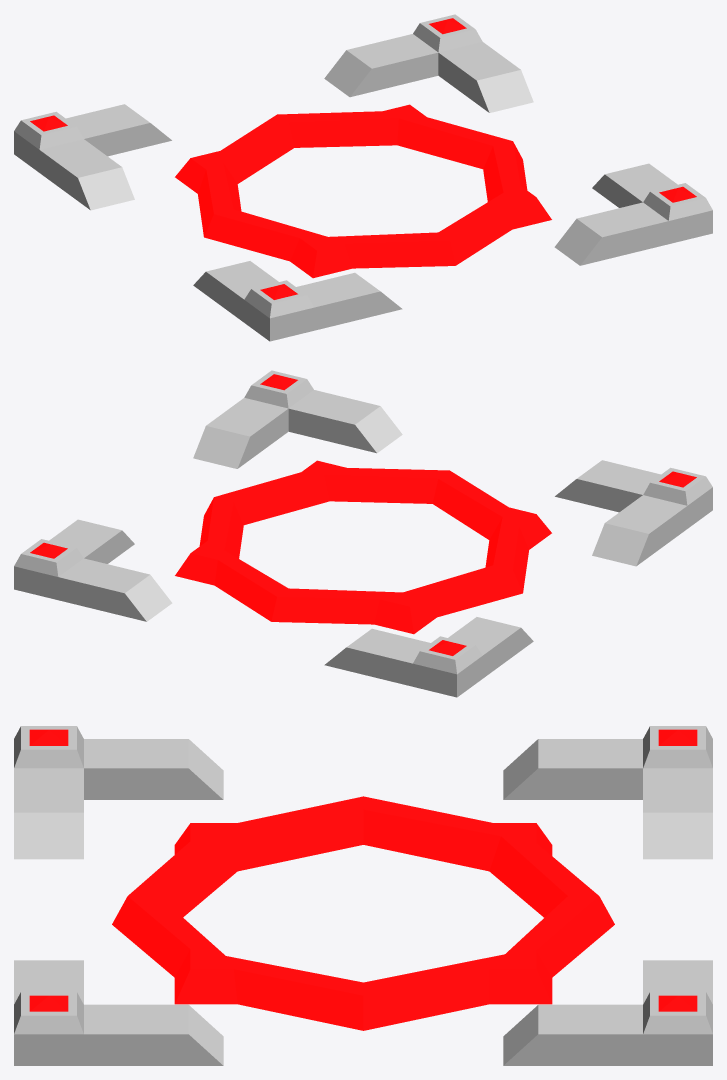
The model's file is checkpoint-metal.glb.
3 renders of one model, top to bottom at view 1: azimuth 30°, elevation 25°; view 2: azimuth 150°, elevation 25°; view 3: azimuth 270°, elevation 25°, orthographic. The views are drawn at different scales.
Visible parts, largest first — view 1: Frame; view 2: Frame; view 3: Frame.
Part boxes in pixels (x1,y1,x2,y2): Frame: (14, 14, 712, 341); Frame: (14, 370, 712, 697); Frame: (14, 726, 712, 1065).
Bounding box in the file's own units: 2 × 0.195 × 2.
